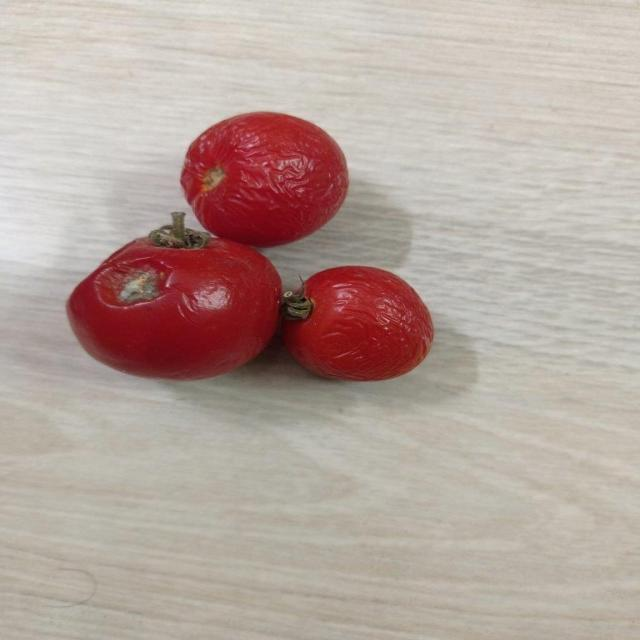Rotten: (65, 222, 285, 380)
overripe: (184, 106, 350, 248), (288, 266, 435, 382)
